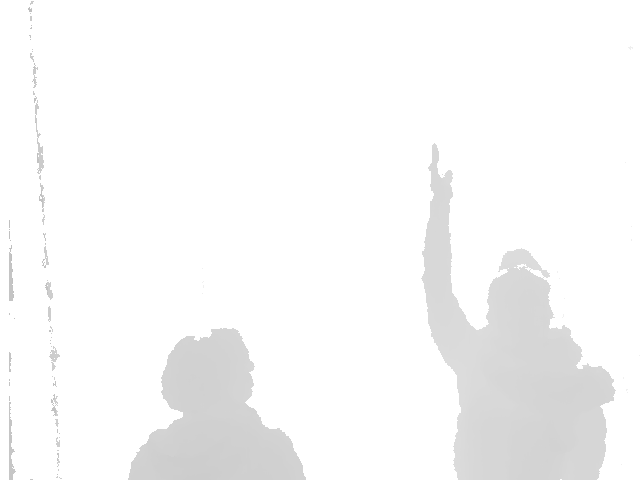hand: (424, 140, 457, 204)
head: (156, 326, 260, 418), (484, 247, 552, 337)
person: (418, 137, 620, 480), (124, 326, 308, 480)
